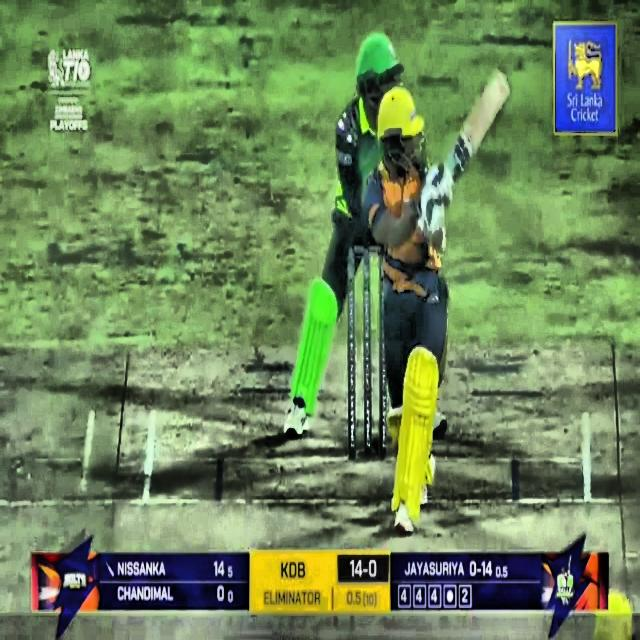Left-stump: (347, 252, 356, 458)
Middle-stump: (364, 252, 371, 458)
Right-stump: (377, 252, 386, 459)
stumps: (347, 251, 388, 459)
